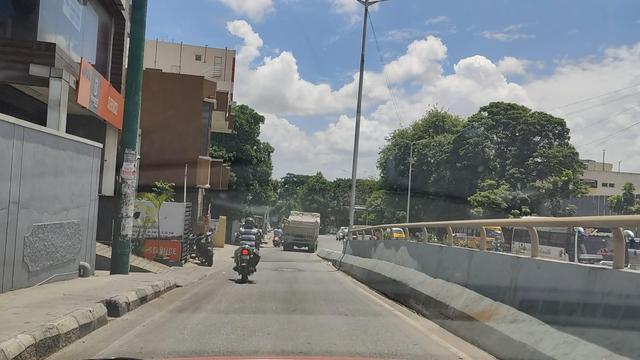HMV: (281, 207, 324, 259)
